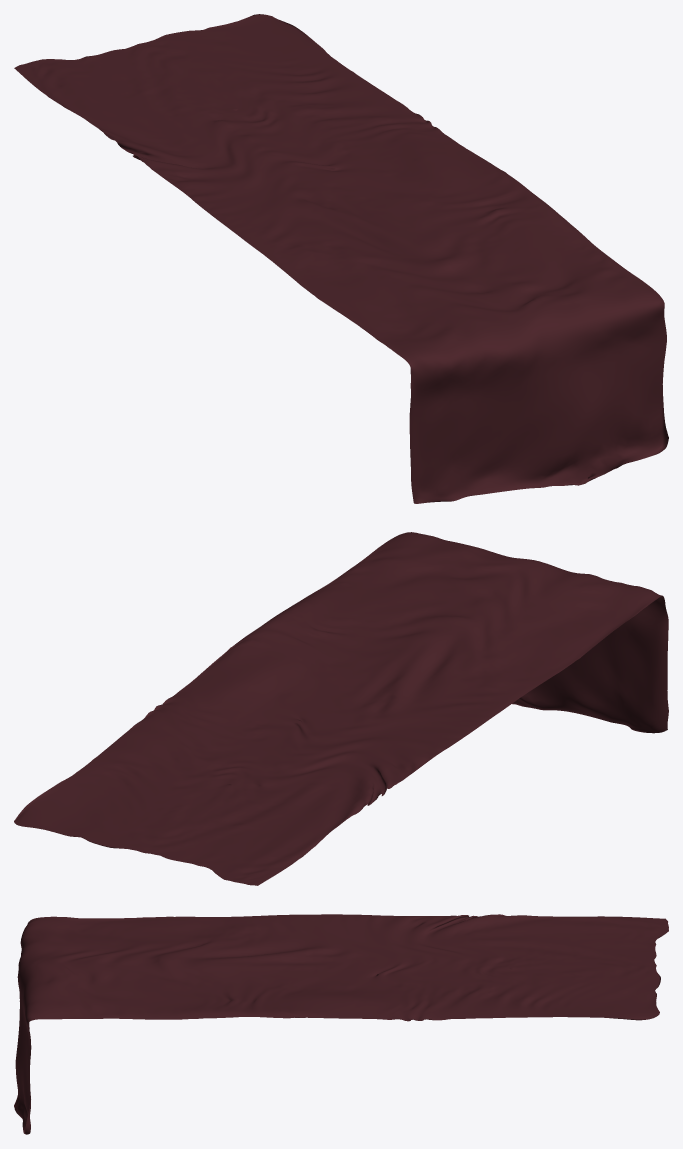
The model's file is high_carpet_001.fbx.
3 renders of one model, top to bottom at view 1: azimuth 30°, elevation 25°; view 2: azimuth 150°, elevation 25°; view 3: azimuth 270°, elevation 25°, orthographic. The views are drawn at different scales.
Parts seen in each view (by area): view 1: high_carpet_001; view 2: high_carpet_001; view 3: high_carpet_001.
Boxes of the visible parts, left/top/right/bottom form: high_carpet_001: left=14, top=14, right=668, bottom=503; high_carpet_001: left=14, top=532, right=668, bottom=885; high_carpet_001: left=14, top=914, right=668, bottom=1134.
Size of the model in its own units: 267 by 156 by 710.
